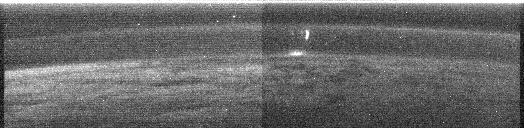positive: (302, 26, 311, 41)
